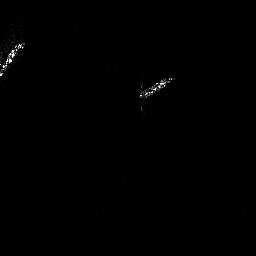ship: (133, 71, 177, 102), (1, 39, 29, 82)
